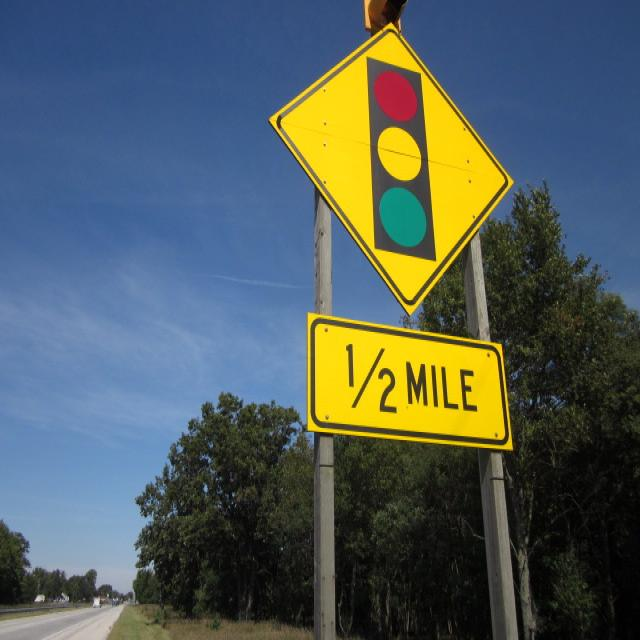warning: (267, 19, 523, 315)
